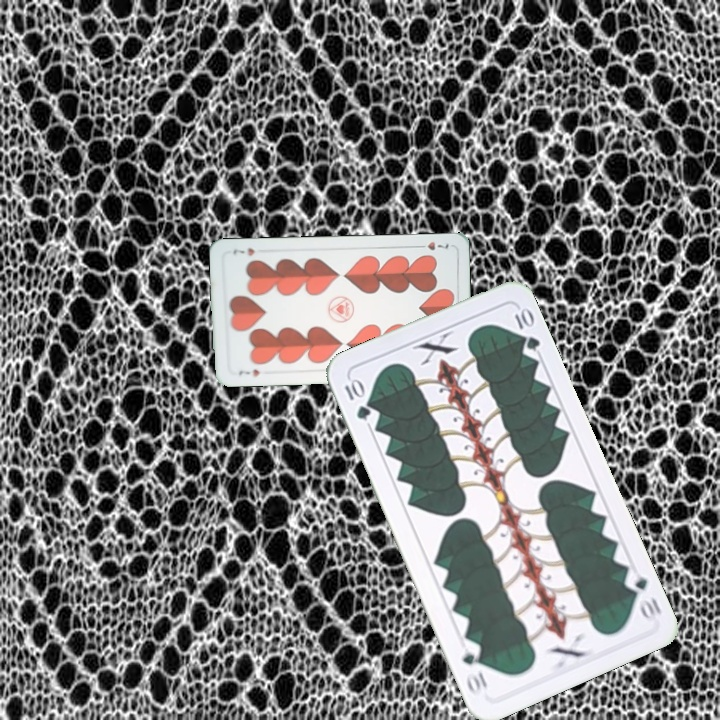G10: (620, 566, 664, 625), (340, 374, 373, 423)
H7: (412, 237, 452, 253), (235, 365, 262, 379)
